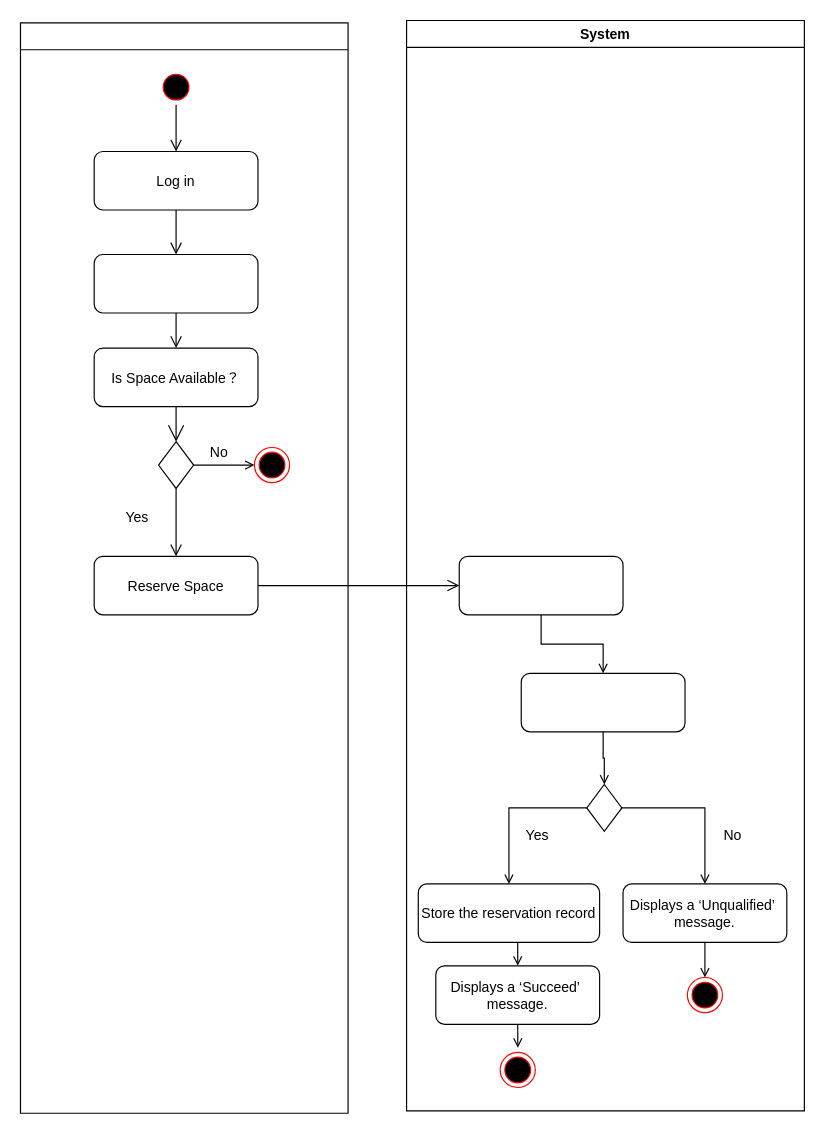
Some shapes in this 825 by 1134 pixel diagram are drawn without their labels. The shapes that lost their labels are listed below. From the top down, each one's box as (x1, y1, x2, y2) in pixels, then its label:
(93, 253, 258, 313): Query Study Space
(19, 22, 348, 1113): User
(458, 555, 623, 615): Check the reservation rule
(520, 672, 685, 732): Is the user qualified?
